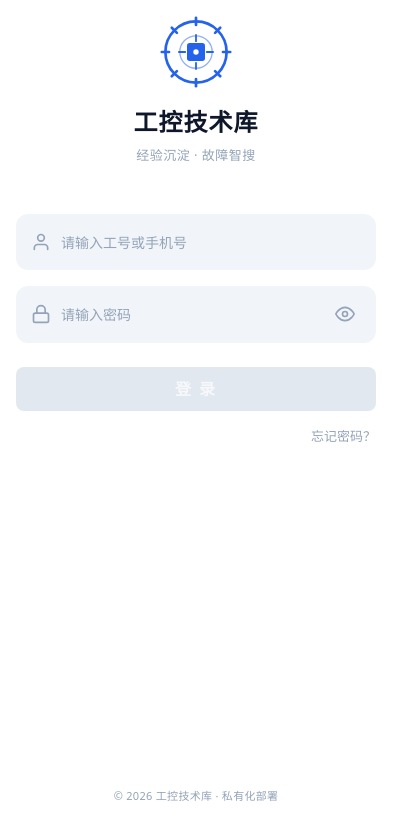
LoginView — 表单交互 › 输入工号和密码后按钮应变为可用
Type "ENG_20240601" into the field with id "login-account" at (211, 242), box [61,214,361,269]
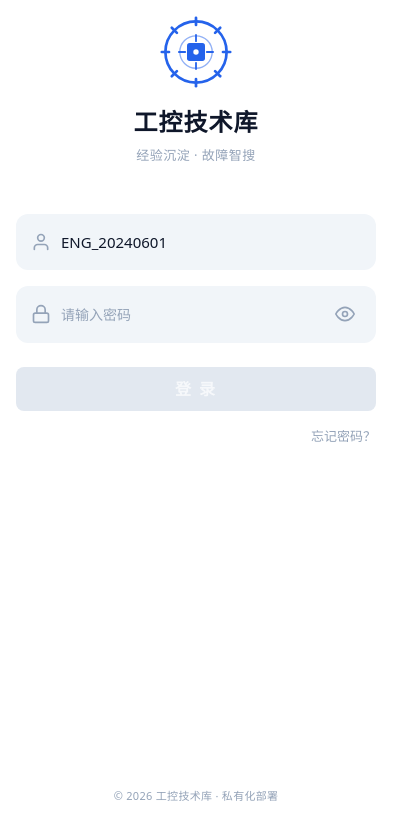
Type "123456" into the password field with id "login-password" at (192, 314), box [61,287,323,342]
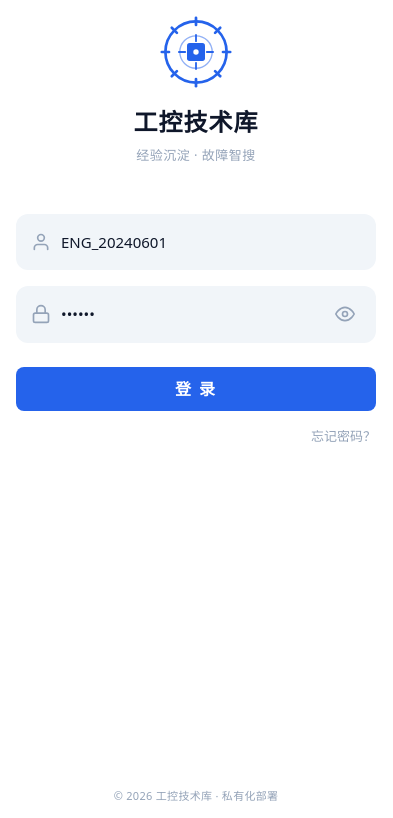
Check: the button with class "login-btn" is enabled, box [16,366,376,410]
